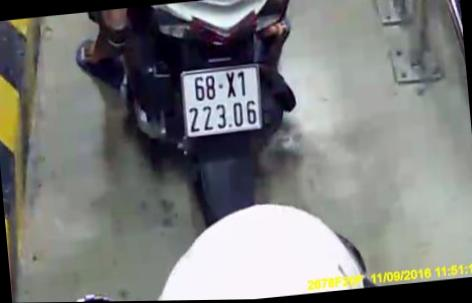LP: (179, 61, 266, 139)
